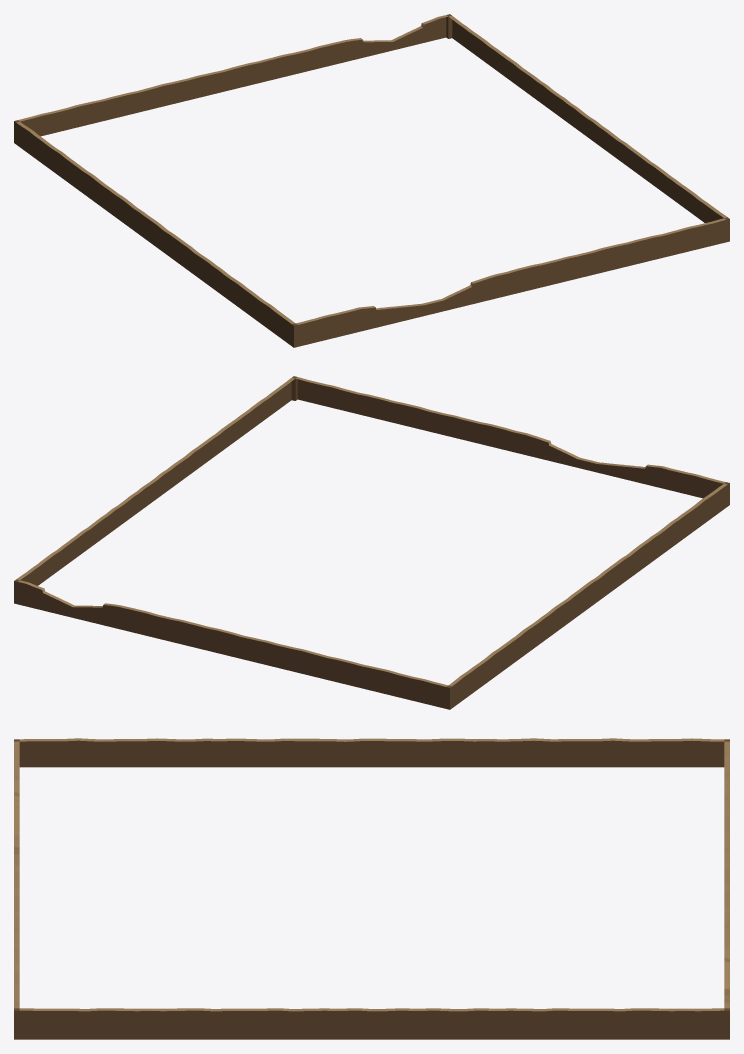
The picture shows the model from 3 angles, top to bottom: view 1: azimuth 30°, elevation 25°; view 2: azimuth 150°, elevation 25°; view 3: azimuth 270°, elevation 25°; orthographic projection. The views are drawn at different scales.
Bounding box in the file's own units: 32.9 × 1.63 × 36.58.
